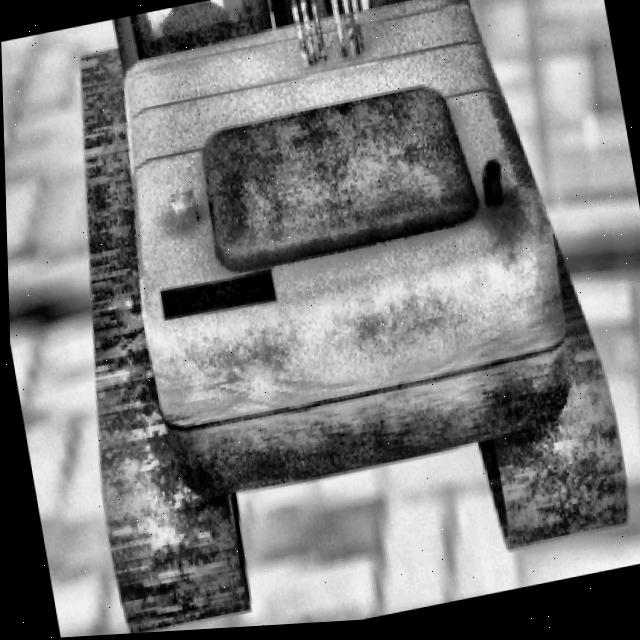excavator: (20, 0, 633, 639)
